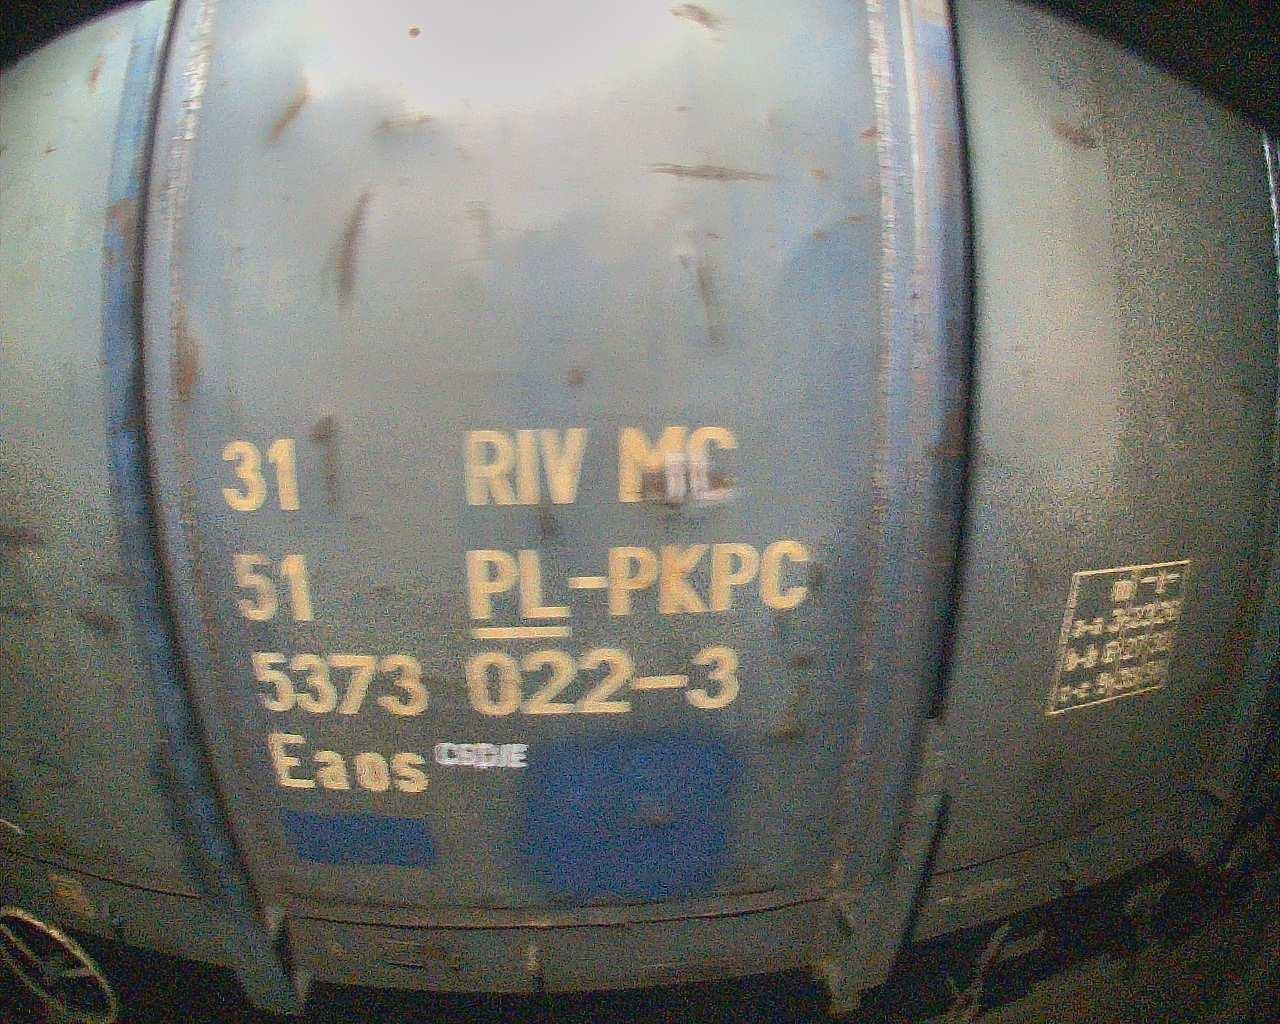UIC: (204, 420, 815, 794)
